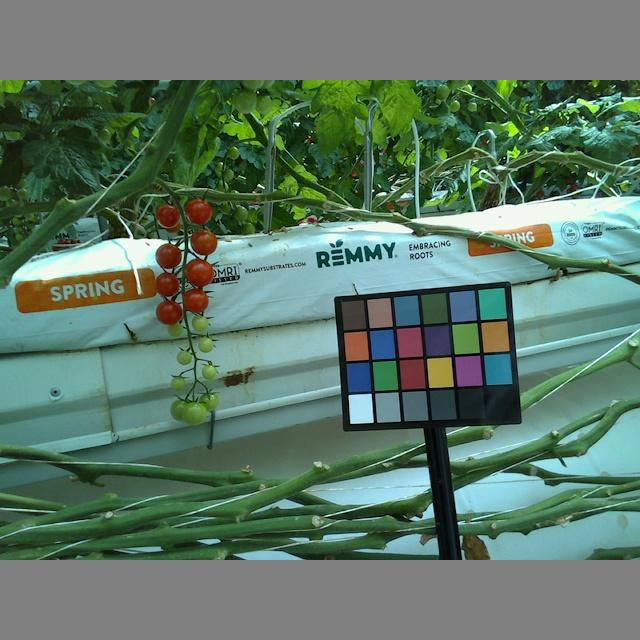green: (179, 399, 204, 426), (199, 389, 218, 412), (167, 321, 184, 339), (168, 374, 186, 391), (197, 337, 215, 353), (190, 316, 209, 330), (201, 364, 216, 381), (175, 350, 192, 364)
pink: (183, 256, 215, 291), (183, 197, 212, 224), (189, 229, 218, 256), (155, 299, 183, 326), (154, 242, 181, 269), (184, 288, 213, 312), (156, 271, 179, 297), (156, 205, 183, 227)
